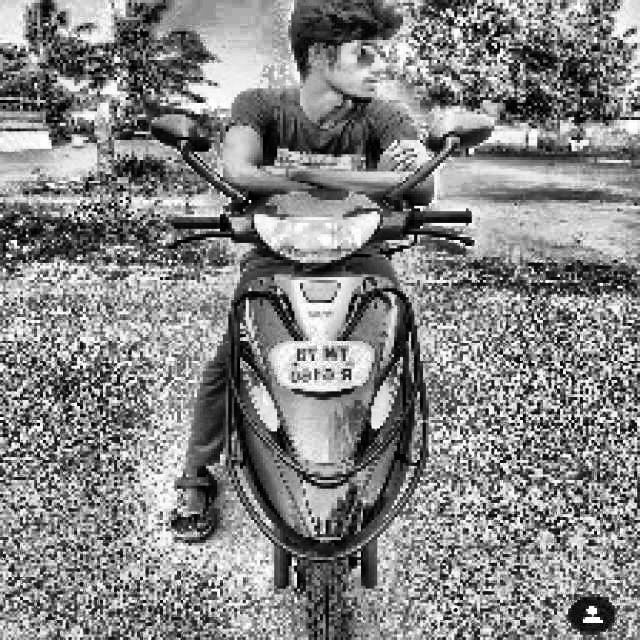motorcycle: (158, 101, 474, 640)
